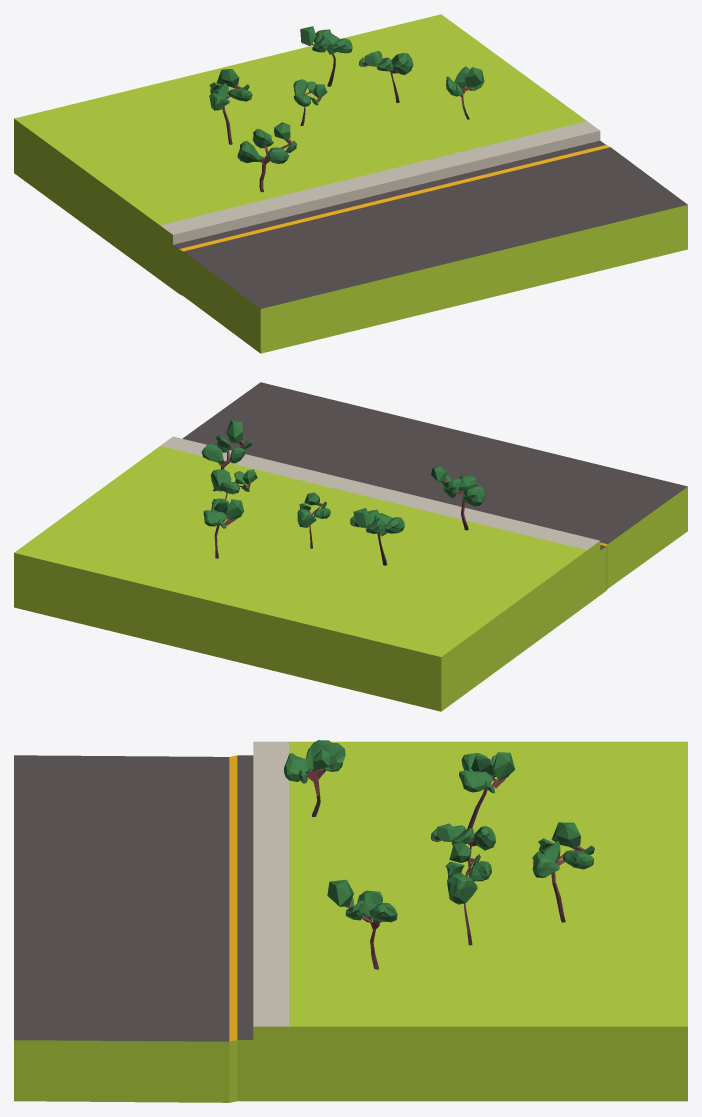
The model's file is Ground.fbx.
The picture shows the model from 3 angles, top to bottom: view 1: azimuth 30°, elevation 25°; view 2: azimuth 150°, elevation 25°; view 3: azimuth 270°, elevation 25°; orthographic projection. The views are drawn at different scales.
Visible parts, largest first — view 1: Ground_Test; view 2: Ground_Test; view 3: Ground_Test.
Boxes of the visible parts, x1,y1,x2,y2 form: Ground_Test: [14, 14, 687, 353]; Ground_Test: [14, 382, 687, 711]; Ground_Test: [14, 740, 687, 1102].
Bounding box in the file's own units: 2007 × 2000 × 529.
